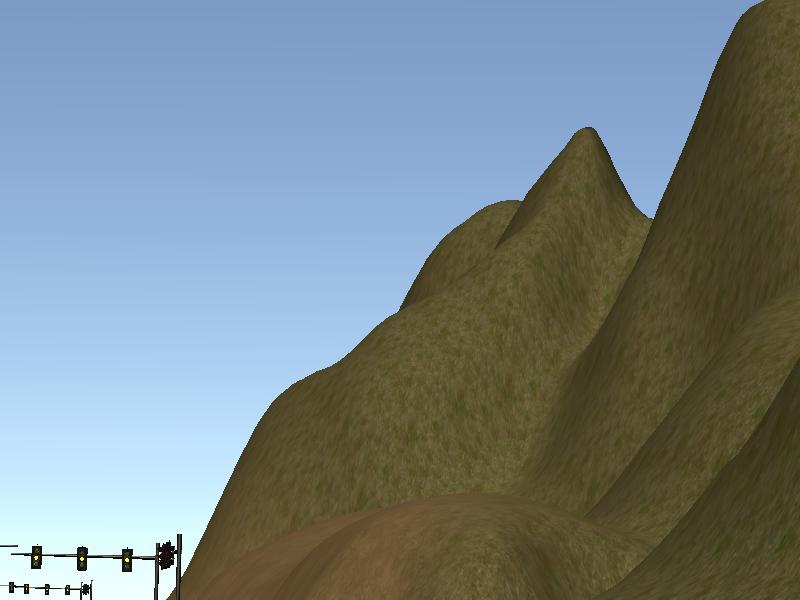yellow_light: (121, 549, 134, 572), (78, 548, 89, 572), (33, 546, 42, 567)
